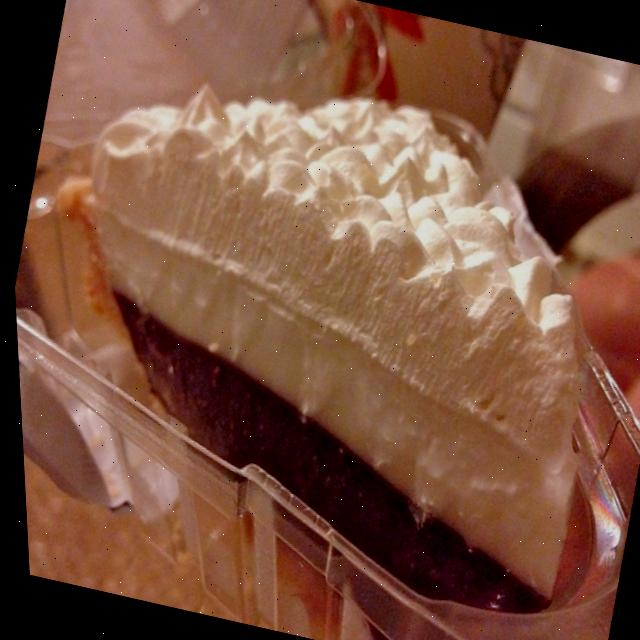蛋糕甜品: (1, 15, 640, 640)
